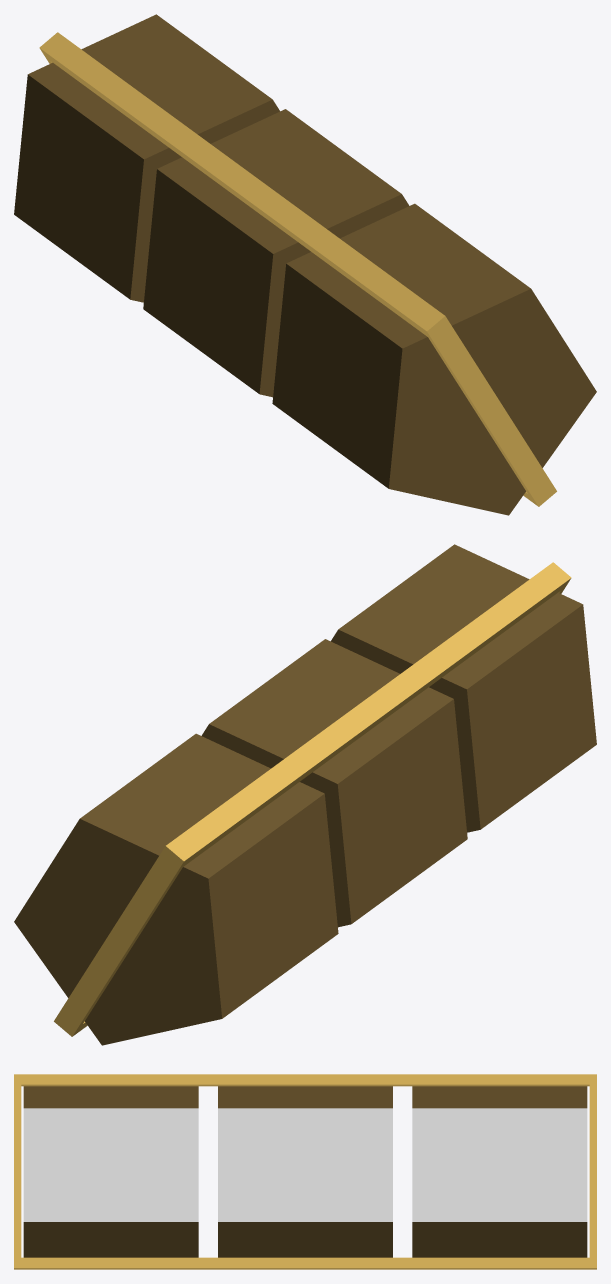
The model's file is char 6 slots.fbx.
The picture shows the model from 3 angles, top to bottom: view 1: azimuth 30°, elevation 25°; view 2: azimuth 150°, elevation 25°; view 3: azimuth 270°, elevation 25°; orthographic projection. The views are drawn at different scales.
Visible parts, largest first — view 1: Cylinder.003, Cylinder.002, Cylinder.001, Plane; view 2: Cylinder.002, Cylinder.003, Cylinder.001, Plane; view 3: Cylinder.002, Cylinder.003, Cylinder.001, Plane.
Boxes of the visible parts, x1=… form: Cylinder.003: x1=272, y1=203, x2=596, y2=515; Cylinder.002: x1=14, y1=14, x2=280, y2=302; Cylinder.001: x1=143, y1=109, x2=409, y2=397; Plane: x1=39, y1=32, x2=556, y2=506; Cylinder.002: x1=14, y1=733, x2=338, y2=1045; Cylinder.003: x1=330, y1=544, x2=596, y2=832; Cylinder.001: x1=201, y1=639, x2=467, y2=927; Plane: x1=54, y1=562, x2=571, y2=1036; Cylinder.002: x1=412, y1=1086, x2=587, y2=1257; Cylinder.003: x1=23, y1=1086, x2=198, y2=1257; Cylinder.001: x1=218, y1=1086, x2=392, y2=1257; Plane: x1=14, y1=1074, x2=596, y2=1269.
Bounding box in the file's own units: 1.86 × 6 × 1.89.
